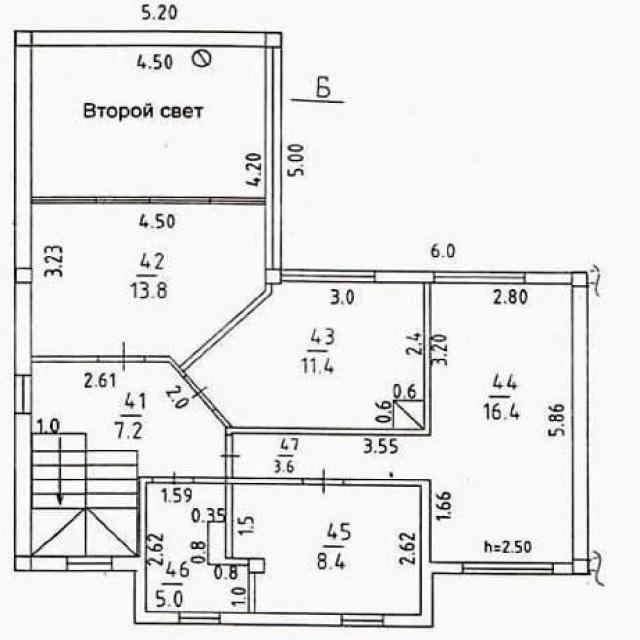Corridors: (34, 48, 264, 196), (32, 363, 224, 476), (233, 436, 431, 479)
Doors: (97, 339, 146, 374), (182, 373, 218, 412), (301, 465, 344, 497), (219, 435, 242, 478), (152, 470, 194, 489)
LBwalls: (14, 29, 282, 376), (525, 271, 590, 576), (13, 414, 67, 572), (384, 561, 462, 629), (112, 556, 180, 625), (206, 521, 267, 574), (220, 612, 342, 627), (377, 269, 433, 283)
Offices: (432, 284, 572, 562), (32, 205, 264, 363), (188, 284, 423, 427), (234, 486, 419, 613), (148, 485, 248, 612)
Stairs: (32, 429, 139, 556)
Walls: (211, 284, 432, 437), (145, 284, 273, 377), (194, 476, 302, 558), (344, 478, 432, 562), (32, 196, 265, 205), (137, 476, 152, 556), (31, 355, 98, 363), (247, 573, 255, 612)
Windows: (282, 269, 375, 284), (461, 561, 553, 575), (434, 271, 526, 282), (13, 374, 33, 415), (66, 555, 112, 572), (341, 613, 384, 628), (179, 611, 221, 624)
